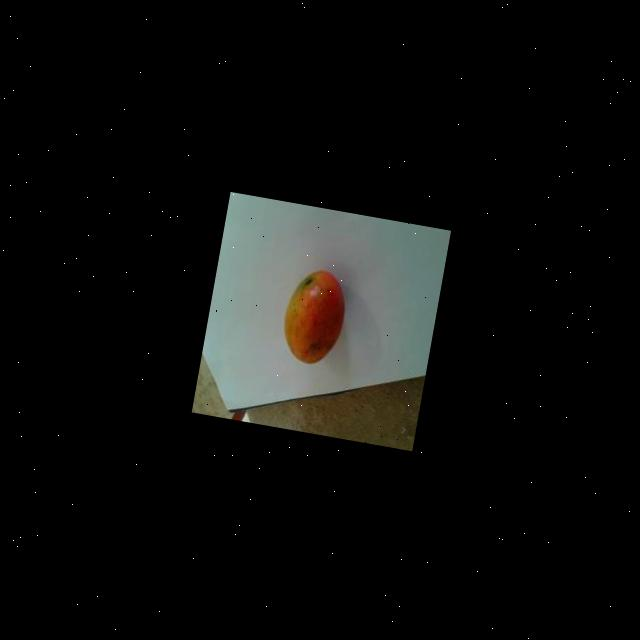Mango: (276, 264, 352, 368)
